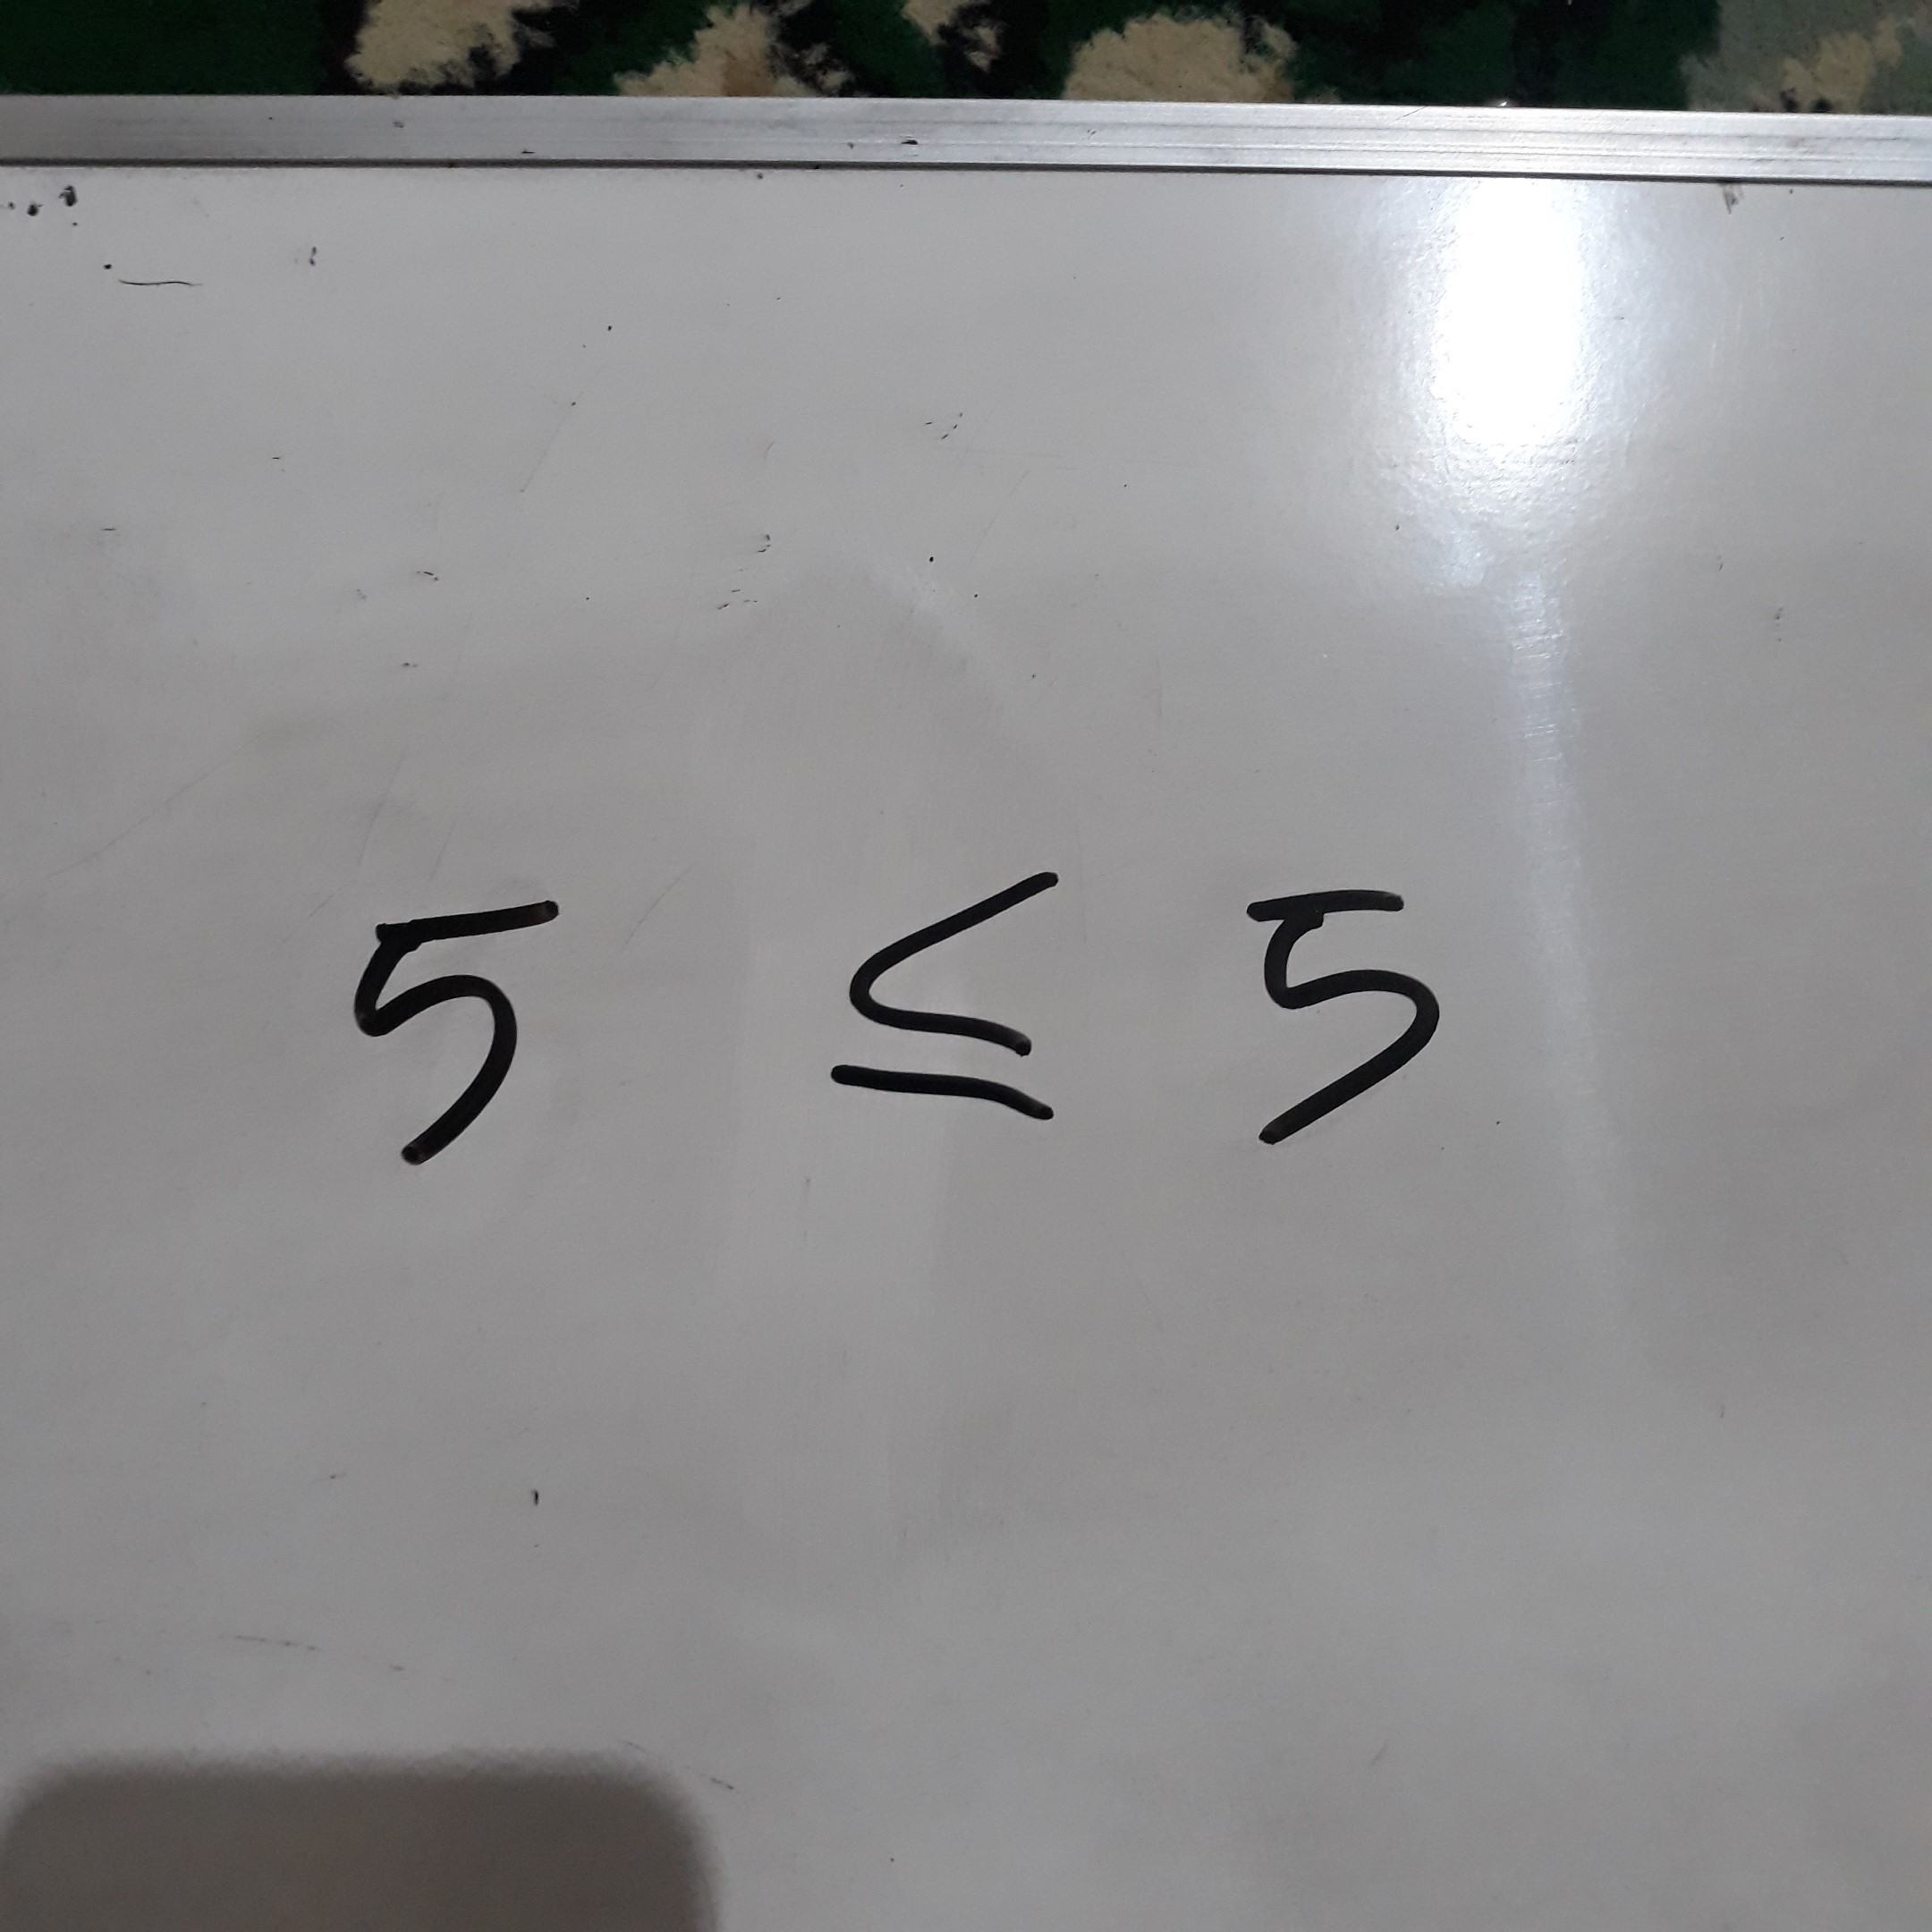lessthan-equal: (812, 826, 1106, 1181)
num5: (315, 851, 608, 1205), (1186, 830, 1479, 1184)
